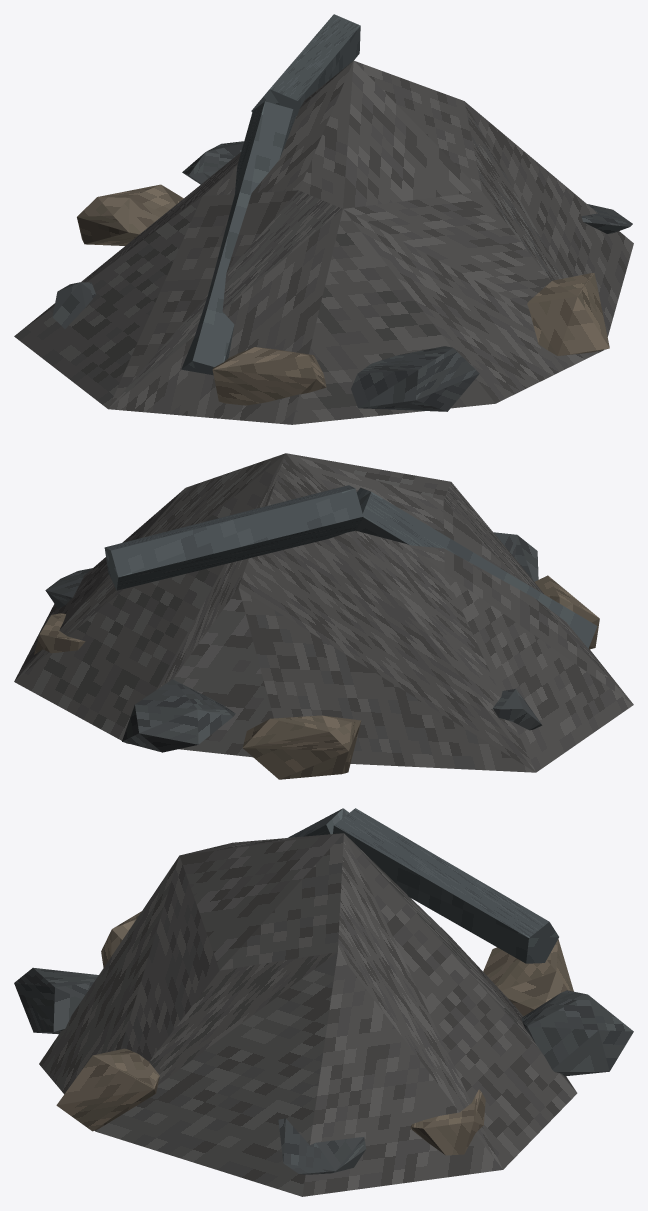
File: f_reactor_meltdown.glb
3 renders of one model, top to bottom at view 1: azimuth 30°, elevation 25°; view 2: azimuth 150°, elevation 25°; view 3: azimuth 270°, elevation 25°, orthographic. The views are drawn at different scales.
Visible parts, largest first — view 1: block_fused-slag-mound, block_slag-cinder (×7), block_fused-remnant-1, block_fused-remnant-2; view 2: block_fused-slag-mound, block_slag-cinder (×7), block_fused-remnant-2, block_fused-remnant-1; view 3: block_fused-slag-mound, block_slag-cinder (×7), block_fused-remnant-2, block_fused-remnant-1.
Boxes of the visible parts, left/top/right/bottom form: block_fused-slag-mound: left=14, top=60, right=633, bottom=424; block_slag-cinder (×7): left=52, top=141, right=632, bottom=411; block_fused-remnant-1: left=181, top=101, right=295, bottom=375; block_fused-remnant-2: left=251, top=14, right=360, bottom=115; block_fused-slag-mound: left=14, top=453, right=633, bottom=772; block_slag-cinder (×7): left=34, top=532, right=599, bottom=779; block_fused-remnant-2: left=104, top=485, right=363, bottom=590; block_fused-remnant-1: left=356, top=487, right=597, bottom=648; block_fused-slag-mound: left=39, top=833, right=577, bottom=1196; block_slag-cinder (×7): left=14, top=911, right=633, bottom=1174; block_fused-remnant-2: left=333, top=808, right=558, bottom=963; block_fused-remnant-1: left=288, top=808, right=349, bottom=837.
Size of the model in its own units: 0.9189 by 0.36 by 0.8608.
Materials: 1 (1 with a texture image).
